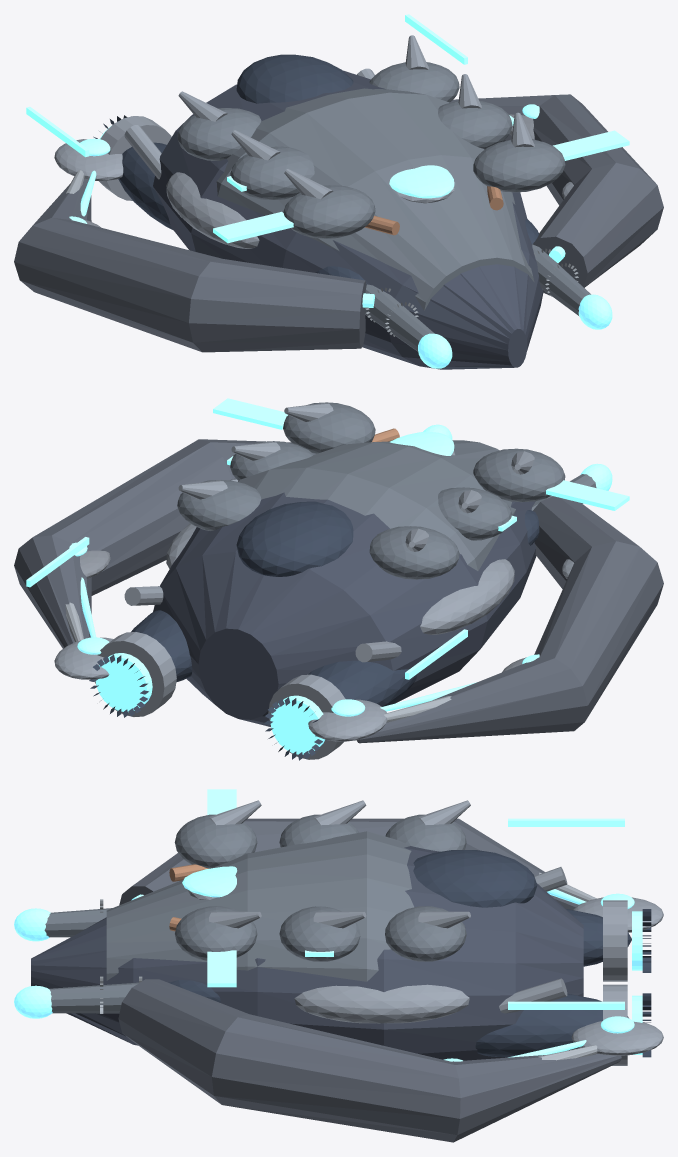
File: npc_nexusWarden.glb
3 views of the same model, one above another, from view 1: azimuth 30°, elevation 25°; view 2: azimuth 150°, elevation 25°; view 3: azimuth 270°, elevation 25° (orthographic).
Visible parts, largest first — view 1: armored_scythe_-1, upper_armor_scar, keel_pressure_hull, armored_scythe_1, destroyer_turret, V59 trim baked, dreadnox_dorsal_plating_1_0, dreadnox_dorsal_plating_-1_0, dreadnox_dorsal_plating_-1_1, dreadnox_dorsal_plating_-1_2, heavy_shield_pad_-1, dreadnox_dorsal_plating_1_1 (+16 smaller); view 2: keel_pressure_hull, armored_scythe_-1, armored_scythe_1, upper_armor_scar, destroyer_turret, V59 trim baked, dreadnox_dorsal_plating_-1_2, heavy_shield_pad_-1, dreadnox_dorsal_plating_-1_0, dreadnox_dorsal_plating_1_0, engine_armor_-1, exhaust_coil_1 (+22 smaller); view 3: armored_scythe_1, keel_pressure_hull, upper_armor_scar, destroyer_turret, heavy_shield_pad_1, V59 trim baked, armored_scythe_-1, engine_armor_1, dreadnox_dorsal_plating_1_2, dreadnox_dorsal_plating_-1_0, dreadnox_dorsal_plating_1_1, dreadnox_dorsal_plating_1_0 (+21 smaller).
Boxes of the visible parts, <box> form: armored_scythe_-1: <box>14,179,366,352</box>; upper_armor_scar: <box>216,88,534,310</box>; keel_pressure_hull: <box>153,70,543,369</box>; armored_scythe_1: <box>450,94,663,296</box>; destroyer_turret: <box>236,54,353,103</box>; V59 trim baked: <box>26,14,629,243</box>; dreadnox_dorsal_plating_1_0: <box>473,139,565,192</box>; dreadnox_dorsal_plating_-1_0: <box>283,185,375,238</box>; dreadnox_dorsal_plating_-1_1: <box>230,146,314,199</box>; dreadnox_dorsal_plating_-1_2: <box>177,108,261,160</box>; heavy_shield_pad_-1: <box>166,172,259,248</box>; dreadnox_dorsal_plating_1_1: <box>438,101,512,149</box>; keel_pressure_hull: <box>153,492,536,726</box>; armored_scythe_-1: <box>357,496,663,743</box>; armored_scythe_1: <box>14,439,315,648</box>; upper_armor_scar: <box>238,440,515,570</box>; destroyer_turret: <box>236,501,353,576</box>; V59 trim baked: <box>26,398,629,679</box>; dreadnox_dorsal_plating_-1_2: <box>369,526,459,579</box>; heavy_shield_pad_-1: <box>420,559,514,634</box>; dreadnox_dorsal_plating_-1_0: <box>473,448,565,502</box>; dreadnox_dorsal_plating_1_0: <box>283,402,375,453</box>; engine_armor_-1: <box>308,660,416,706</box>; exhaust_coil_1: <box>95,632,176,716</box>; armored_scythe_1: <box>118,979,621,1142</box>; keel_pressure_hull: <box>31,846,583,1060</box>; upper_armor_scar: <box>106,831,413,981</box>; destroyer_turret: <box>413,850,537,907</box>; heavy_shield_pad_1: <box>294,984,469,1023</box>; V59 trim baked: <box>207,789,624,1009</box>; armored_scythe_-1: <box>119,818,578,909</box>; engine_armor_1: <box>475,993,628,1057</box>; dreadnox_dorsal_plating_1_2: <box>385,906,466,961</box>; dreadnox_dorsal_plating_-1_0: <box>174,814,257,868</box>; dreadnox_dorsal_plating_1_1: <box>279,906,360,961</box>; dreadnox_dorsal_plating_1_0: <box>175,906,257,960</box>.
Size of the model in its own units: 4.26 by 1.43 by 4.22.
